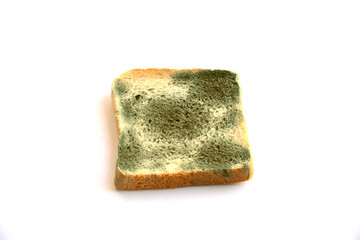mold_bread: (144, 97, 209, 138), (189, 140, 253, 177), (170, 70, 246, 97), (116, 130, 144, 175), (218, 106, 247, 133), (117, 99, 140, 122), (113, 78, 129, 97)
